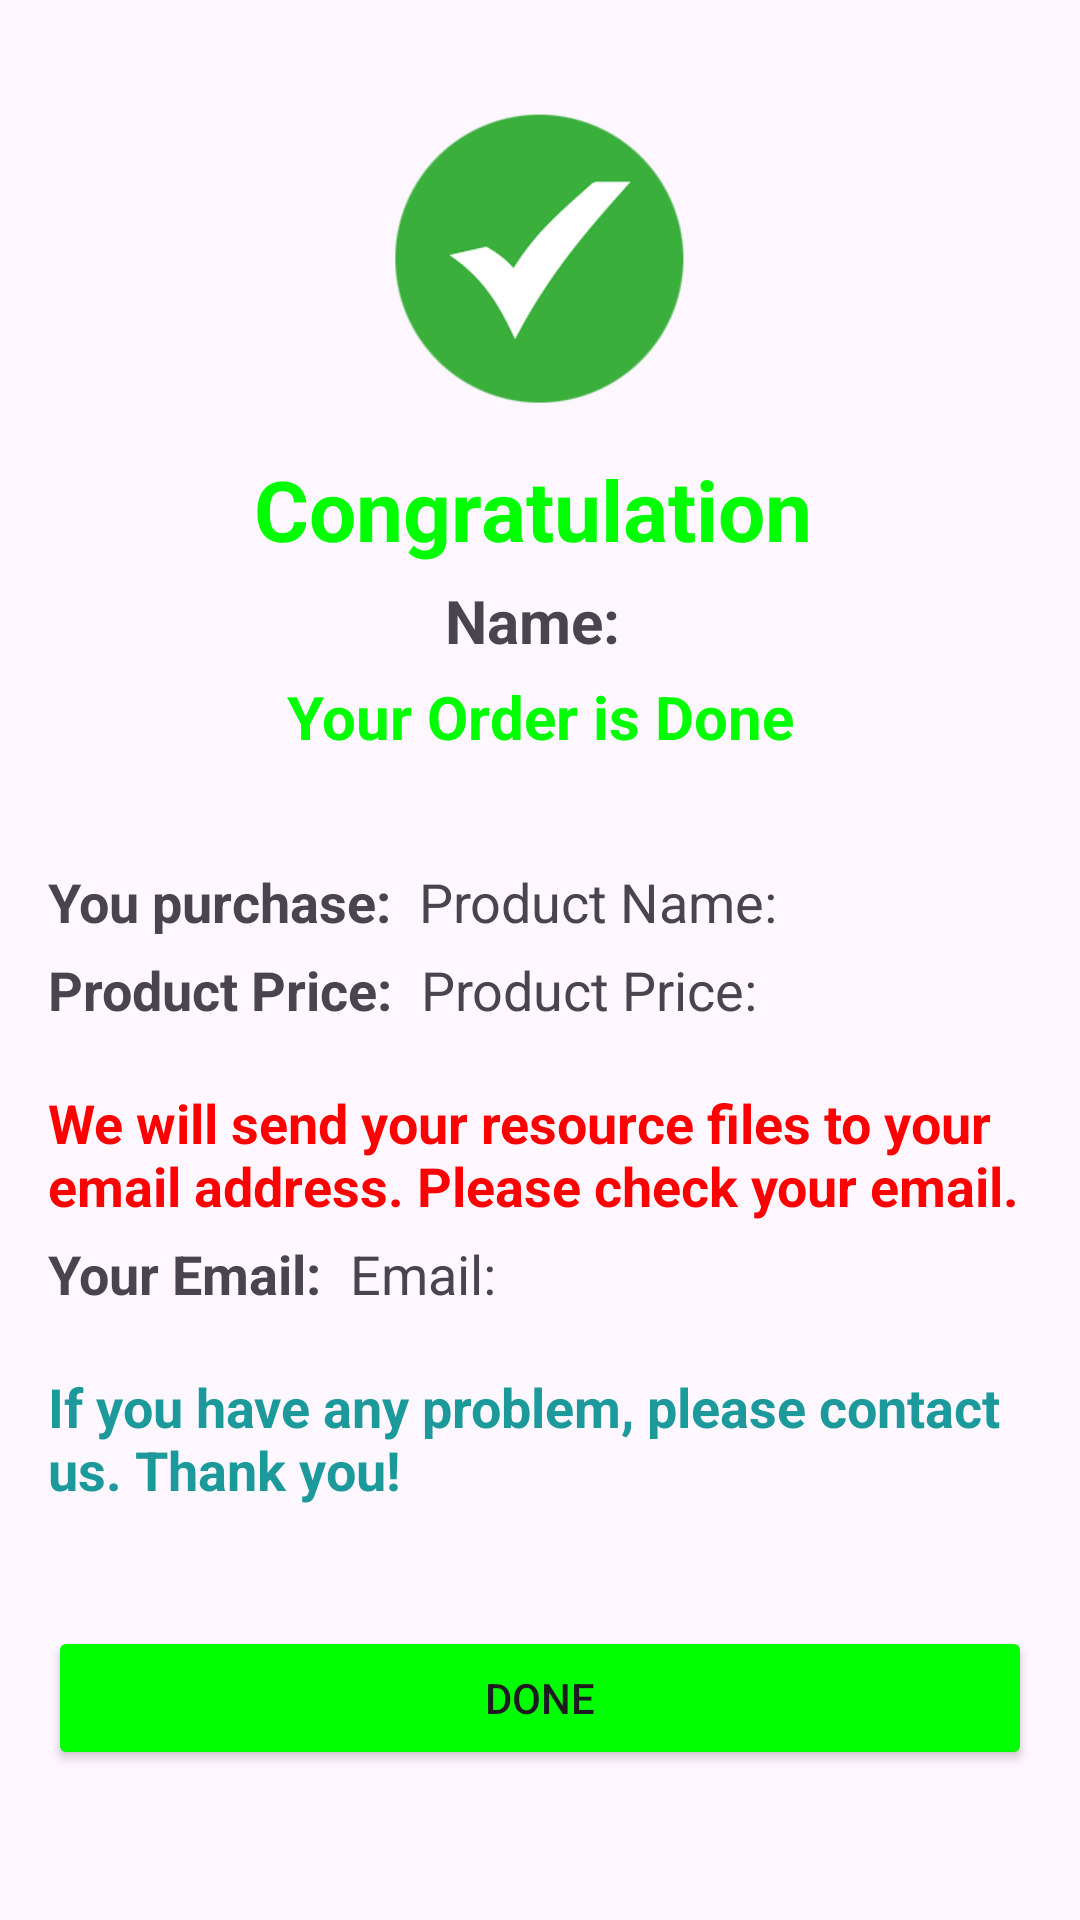

Screen size 1080w x 1920h. Icon name, then its box in pixels as (x1, y1, x2, y2):
done: (395, 114, 684, 403)
